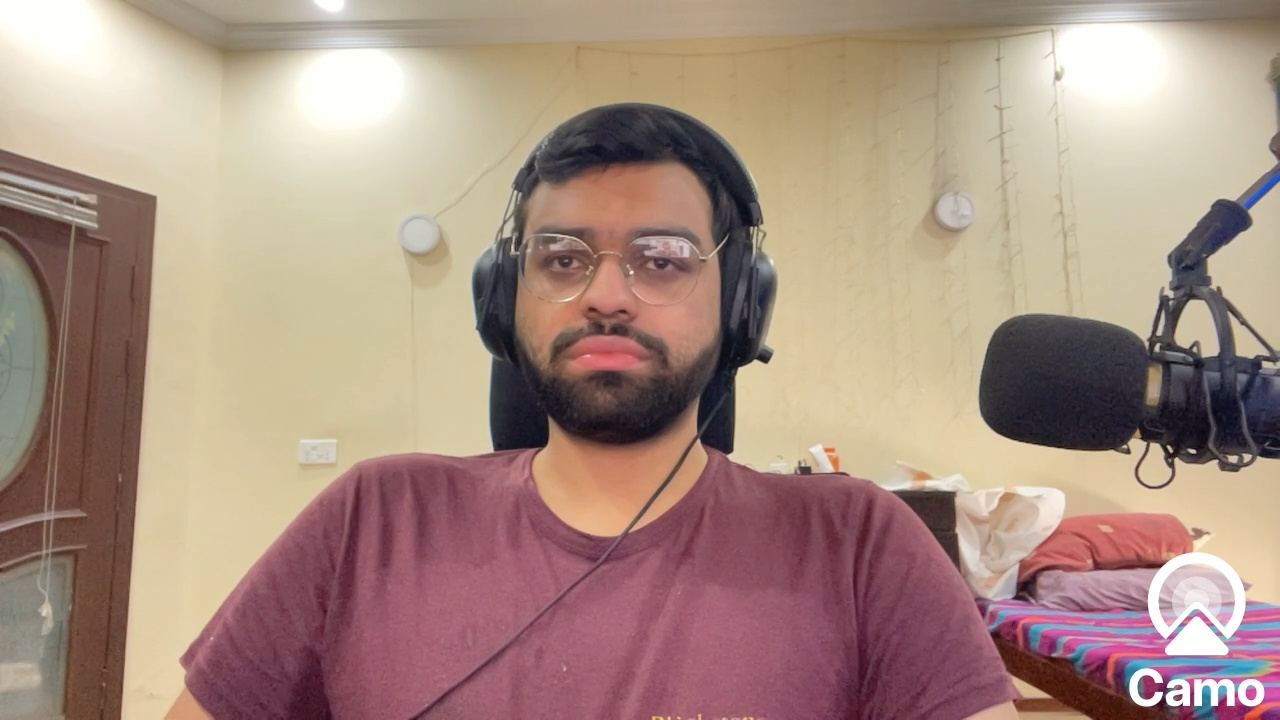neutral: (507, 169, 714, 455)
